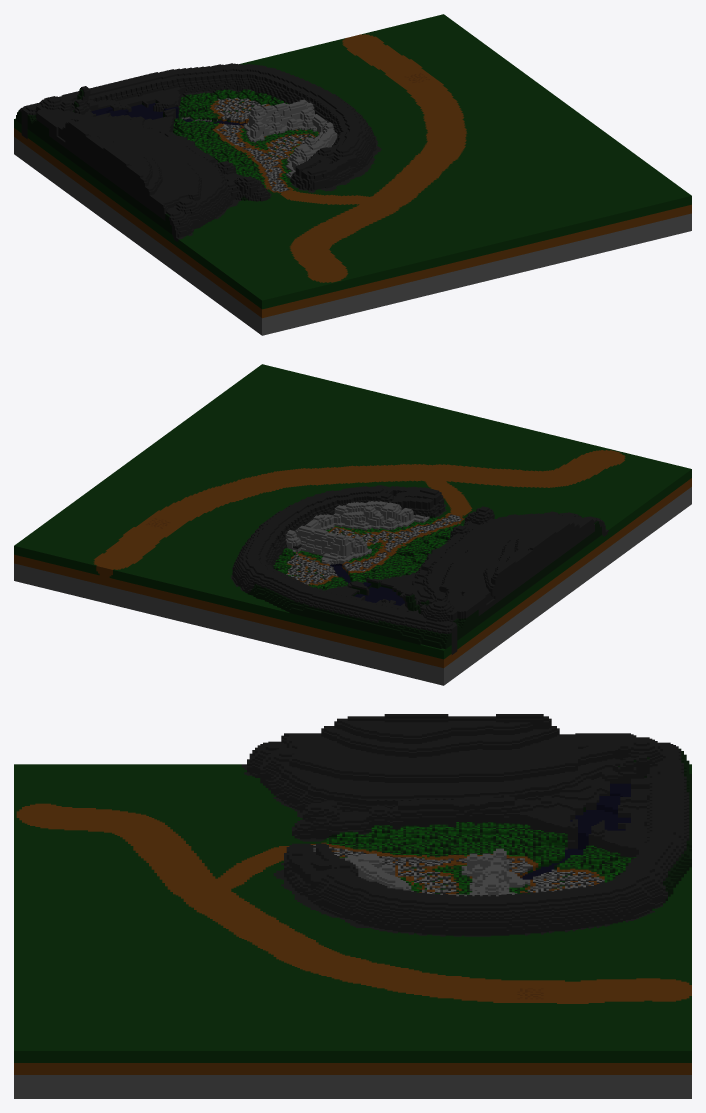
Rendered from ShrineArea.obj.
The picture shows the model from 3 angles, top to bottom: view 1: azimuth 30°, elevation 25°; view 2: azimuth 150°, elevation 25°; view 3: azimuth 270°, elevation 25°; orthographic projection. The views are drawn at different scales.
Bounding box in the file's own units: 25.6 × 4.1 × 25.6.
1 material, 1 textured.
